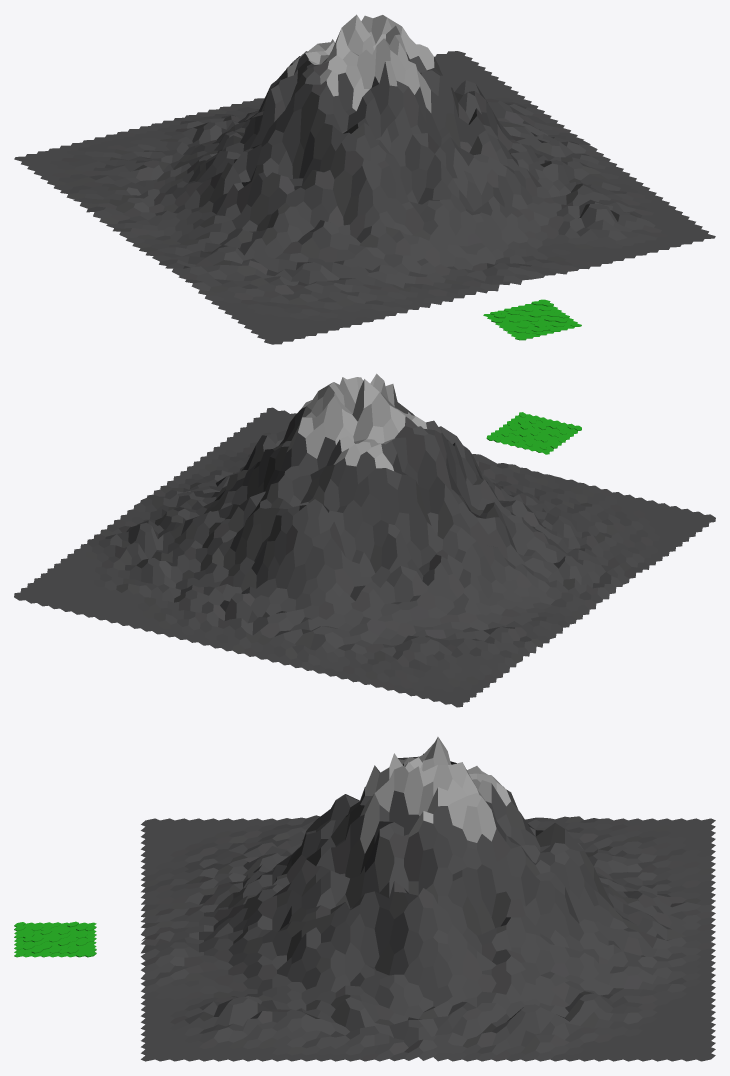
Rendered from Dag2.fbx.
3 views of the same model, one above another, from view 1: azimuth 30°, elevation 25°; view 2: azimuth 150°, elevation 25°; view 3: azimuth 270°, elevation 25° (orthographic). The views are drawn at different scales.
Visible parts, largest first — view 1: dag, Cimen; view 2: dag, Cimen; view 3: dag, Cimen.
Boxes of the visible parts, <box> form: dag: <box>14,14,715,344</box>; Cimen: <box>483,299,581,340</box>; dag: <box>14,373,715,707</box>; Cimen: <box>486,412,581,454</box>; dag: <box>141,737,715,1061</box>; Cimen: <box>14,921,96,957</box>.
Bounding box in the file's own units: 197 × 76 × 240.
